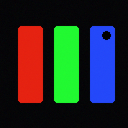0 point: (102, 31, 110, 39)
